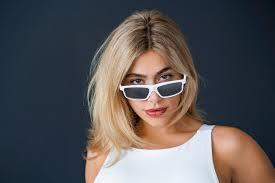sunglasses: (117, 78, 188, 102)
